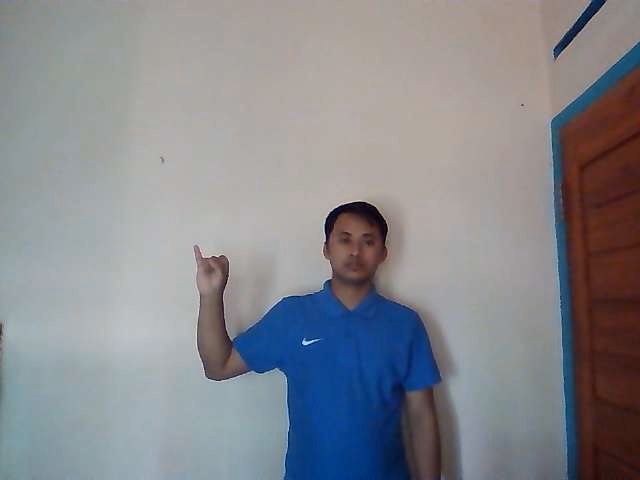I: (192, 243, 230, 293)
